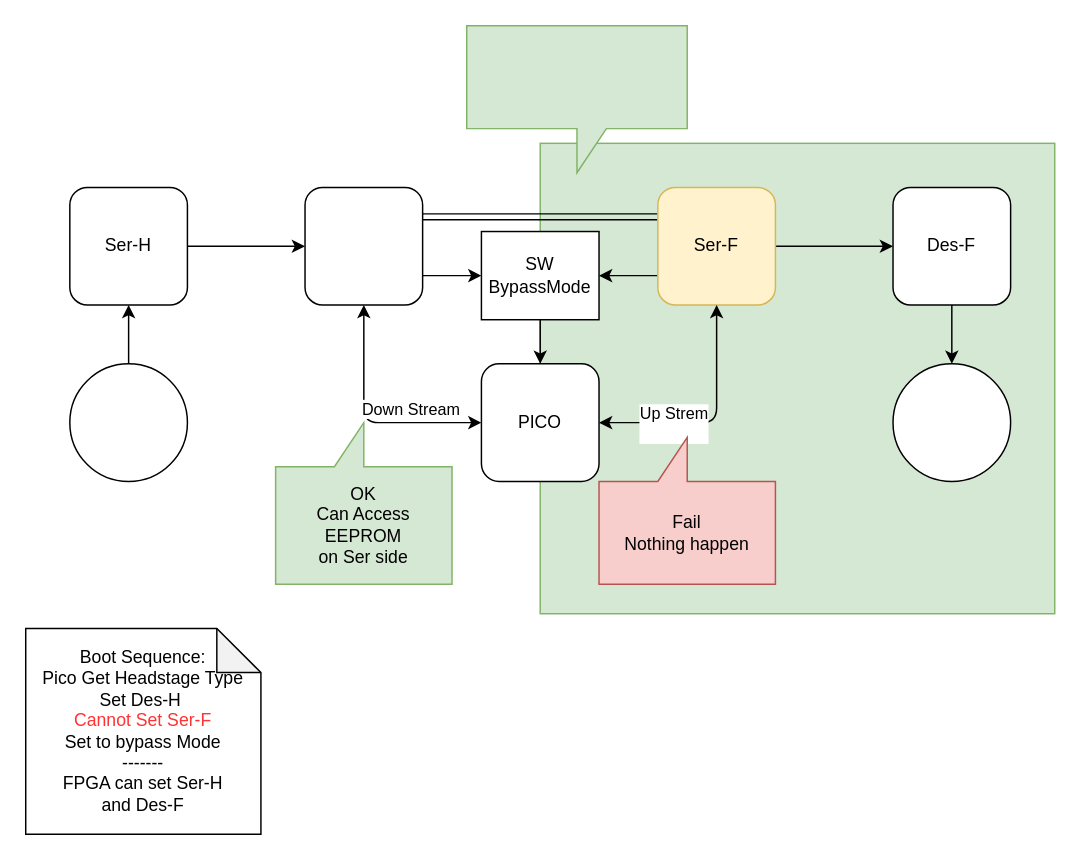
The diagram is 1080 pixels wide and 860 high, and some of its shapes have lost their labels. The box of each missing label's shape, as (x1, y1, x2, y2) in pixels:
Bypass Mode OK: (465, 24, 687, 173)
Des-H: (304, 186, 423, 305)
FPGA: (892, 362, 1011, 481)
HeadStage: (68, 362, 187, 481)
